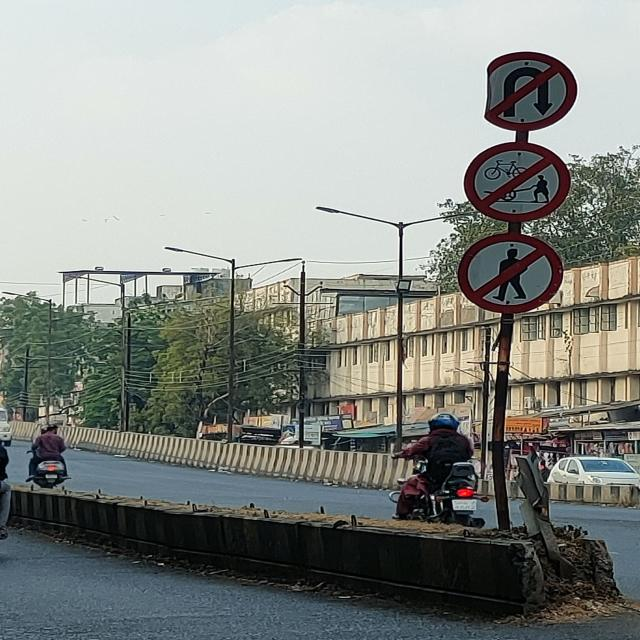cycle_prohibited: (464, 142, 574, 223)
